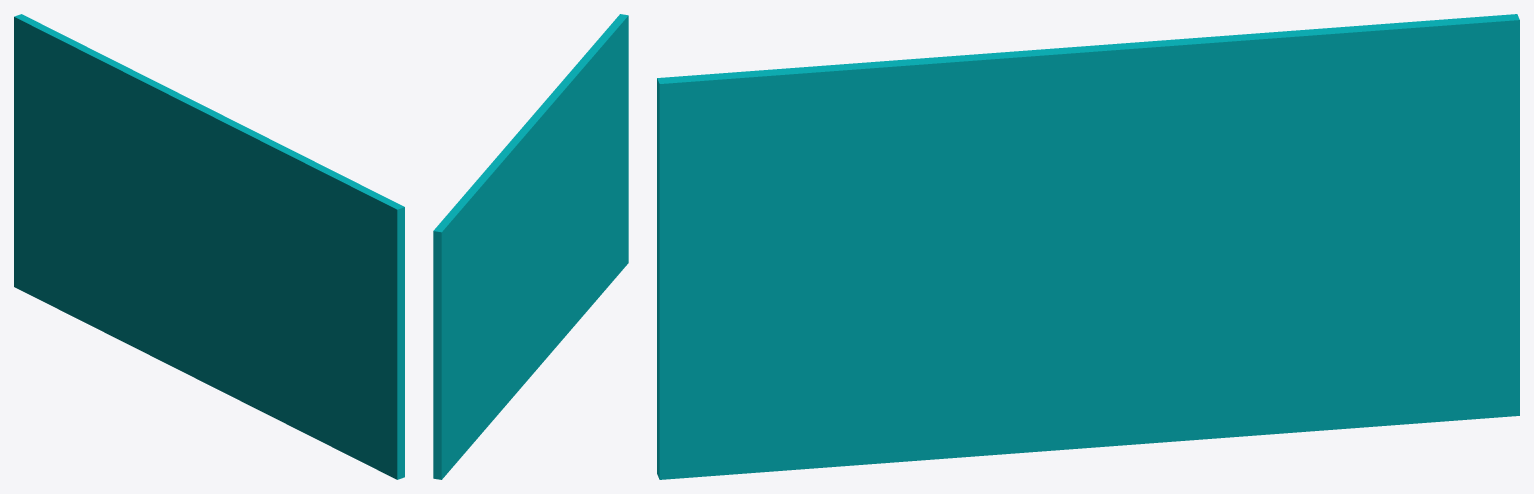
File: barricade.fbx
3 views of the same model, side by side, from view 1: azimuth 30°, elevation 25°; view 2: azimuth 150°, elevation 25°; view 3: azimuth 270°, elevation 25° (orthographic). The views are drawn at different scales.
Parts seen in each view (by area): view 1: BP_barricade; view 2: BP_barricade; view 3: BP_barricade.
Boxes of the visible parts, x1,y1,x2,y2 form: BP_barricade: (14,14,404,479); BP_barricade: (433,14,628,479); BP_barricade: (657,14,1519,479).
Size of the model in its own units: 57.02 by 296 by 150.
